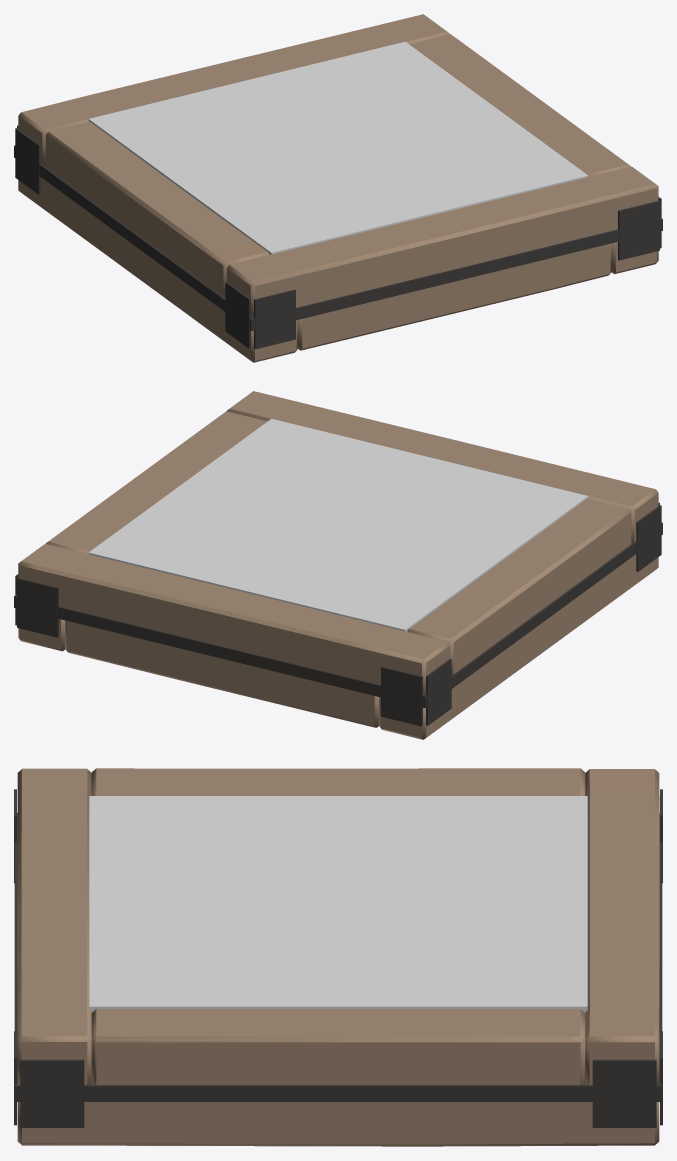
The model's file is Kit_RealTower_R2.fbx.
3 renders of one model, top to bottom at view 1: azimuth 30°, elevation 25°; view 2: azimuth 150°, elevation 25°; view 3: azimuth 270°, elevation 25°, orthographic. The views are drawn at different scales.
Parts seen in each view (by area): view 1: Kit_RealTower_R2_LOD0; view 2: Kit_RealTower_R2_LOD0; view 3: Kit_RealTower_R2_LOD0.
Boxes of the visible parts, x1,y1,x2,y2 form: Kit_RealTower_R2_LOD0: [14, 14, 662, 362]; Kit_RealTower_R2_LOD0: [14, 391, 662, 739]; Kit_RealTower_R2_LOD0: [14, 768, 662, 1146].
Size of what is drawn, in the model's own units: 2.63 by 0.497 by 2.63.
